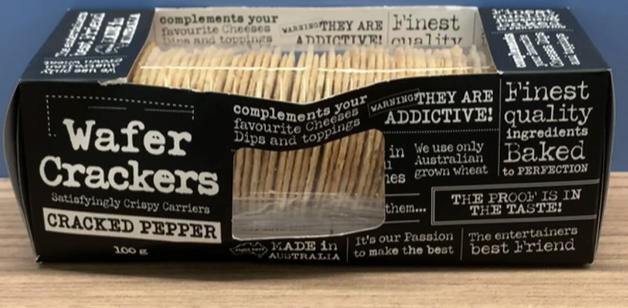crackers_150g: (33, 49, 593, 248)
